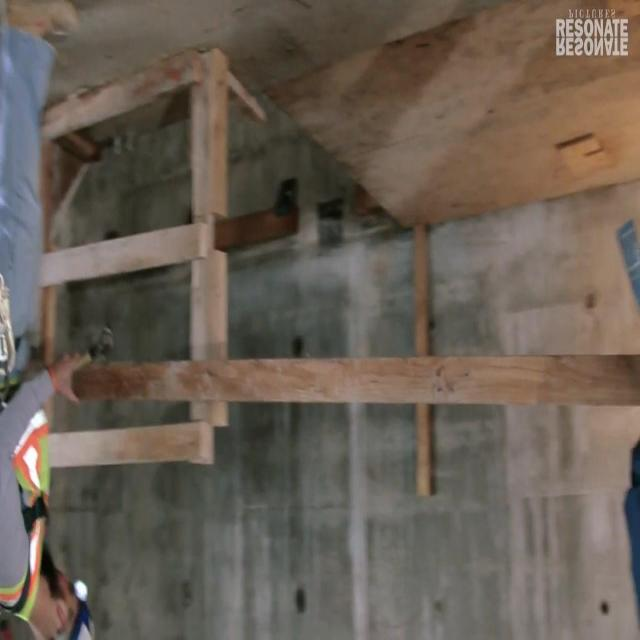jacket: (0, 393, 52, 632)
